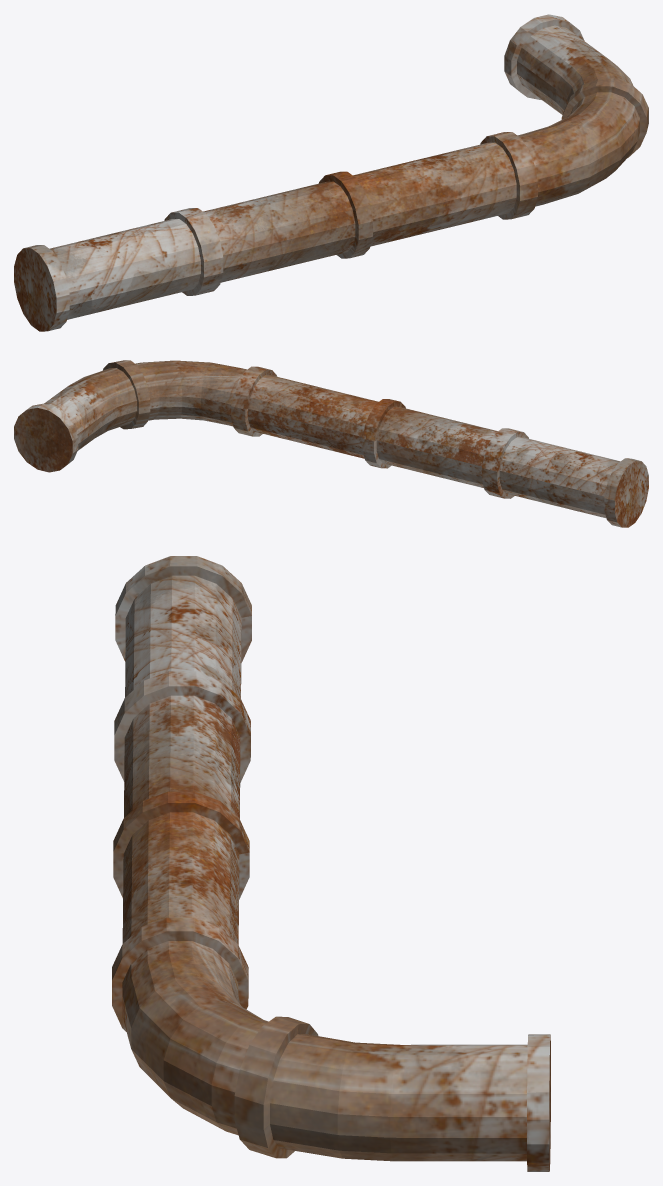
The model's file is BIF_TUBE.obj.
The picture shows the model from 3 angles, top to bottom: view 1: azimuth 30°, elevation 25°; view 2: azimuth 150°, elevation 25°; view 3: azimuth 270°, elevation 25°; orthographic projection. The views are drawn at different scales.
Parts seen in each view (by area): view 1: big_tube; view 2: big_tube; view 3: big_tube.
Boxes of the visible parts, x1,y1,x2,y2 form: big_tube: [14, 14, 648, 331]; big_tube: [14, 360, 648, 527]; big_tube: [112, 556, 550, 1171].
Bounding box in the file's own units: 8.25 × 0.9271 × 2.98.
